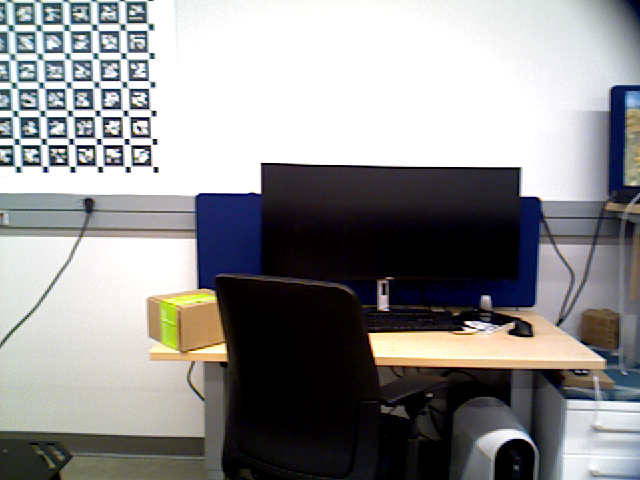painting4: (1, 1, 164, 192)
